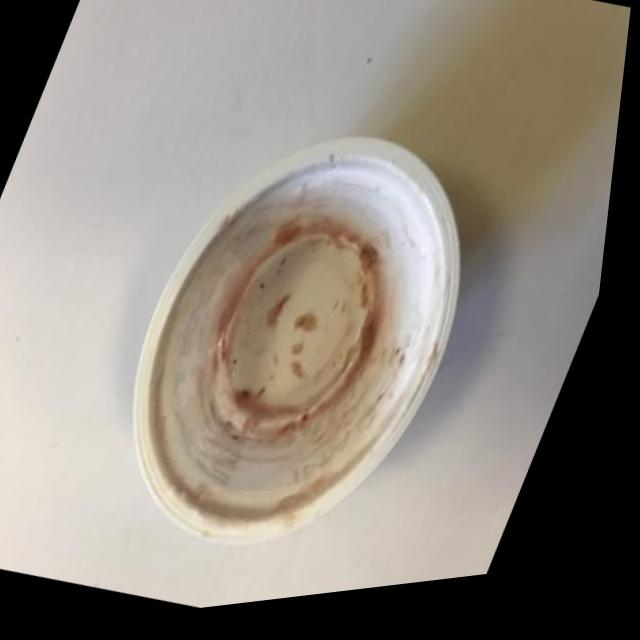trash: (45, 60, 563, 631)
